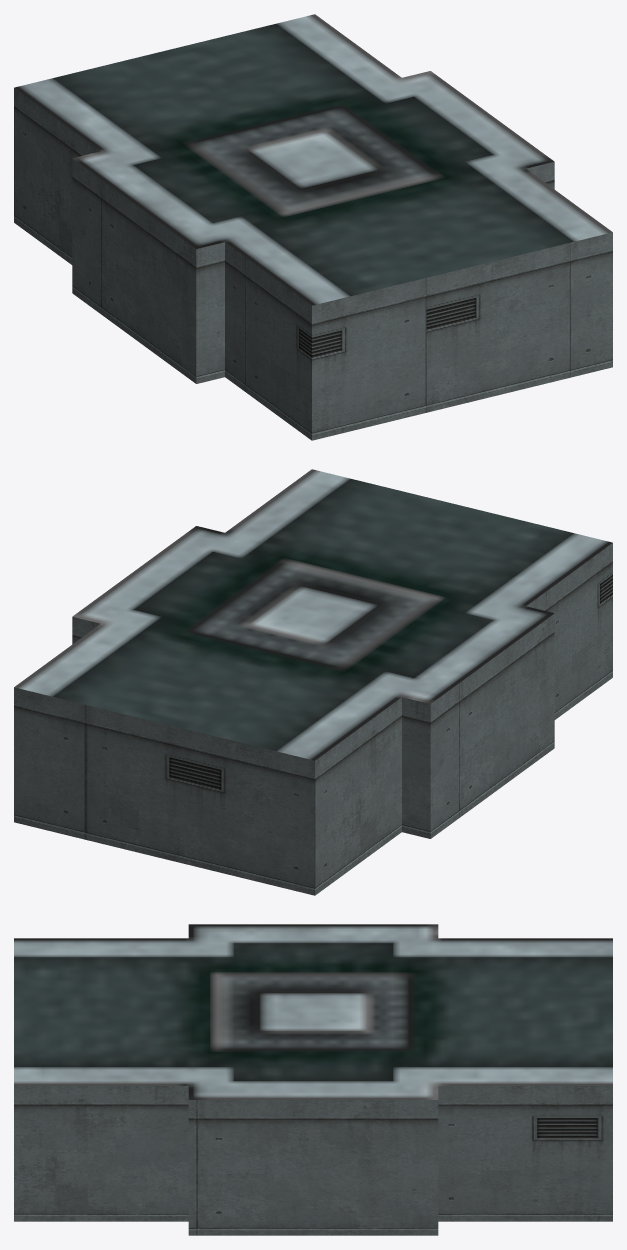
The model's file is medium_roof09.glb.
3 renders of one model, top to bottom at view 1: azimuth 30°, elevation 25°; view 2: azimuth 150°, elevation 25°; view 3: azimuth 270°, elevation 25°, orthographic.
Visible parts, largest first — view 1: buildings/saxarba/medium/medium_roof09; view 2: buildings/saxarba/medium/medium_roof09; view 3: buildings/saxarba/medium/medium_roof09.
Boxes of the visible parts, left/top/right/bottom form: buildings/saxarba/medium/medium_roof09: left=14, top=14, right=612, bottom=440; buildings/saxarba/medium/medium_roof09: left=14, top=469, right=612, bottom=895; buildings/saxarba/medium/medium_roof09: left=14, top=924, right=612, bottom=1235.
Bounding box in the file's own units: 50 × 18 × 72.
